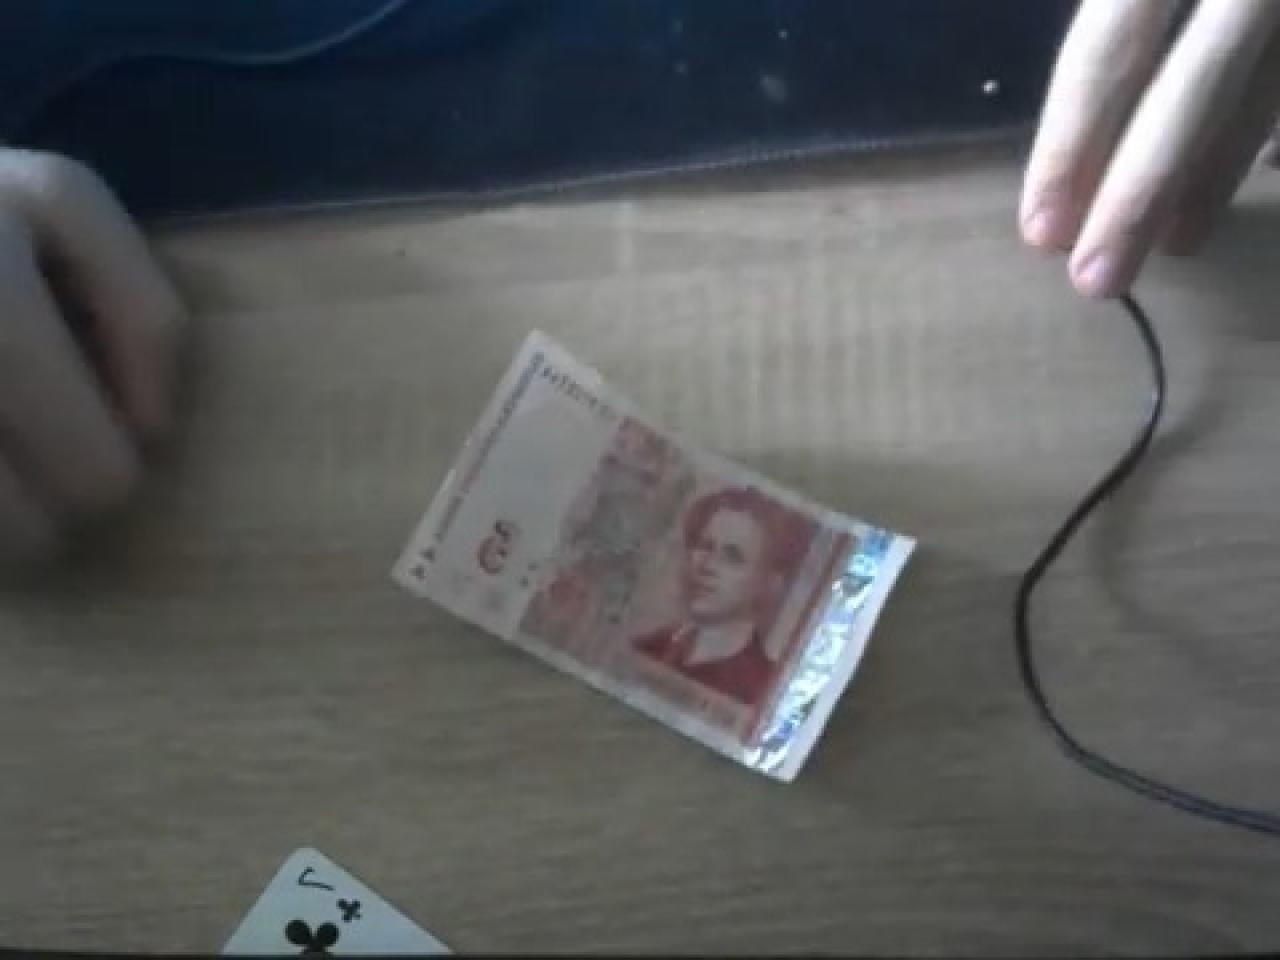5leva: (389, 334, 922, 784)
